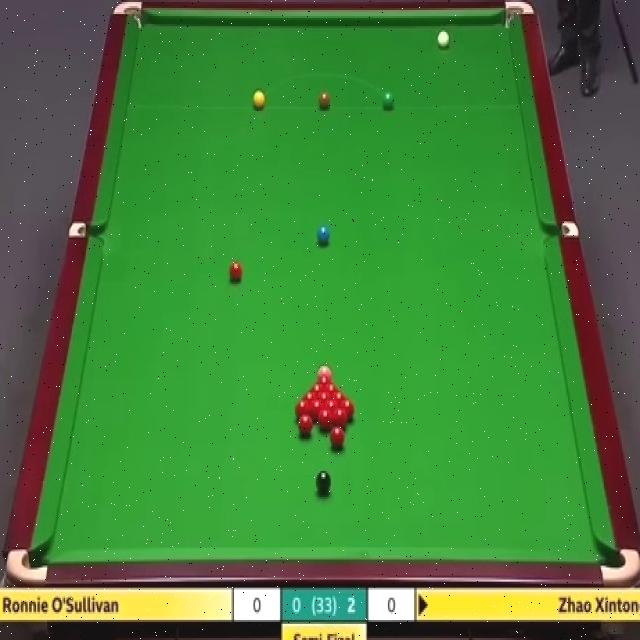black-ball: (316, 470, 332, 497)
blue-ball: (316, 224, 330, 247)
brown-ball: (318, 90, 331, 110)
green-ball: (381, 90, 394, 110)
pink-ball: (317, 364, 333, 378)
red-ball: (228, 260, 245, 288), (330, 428, 347, 451), (331, 409, 348, 430), (298, 414, 312, 435), (318, 409, 332, 430), (295, 398, 311, 416), (325, 401, 339, 420), (310, 400, 324, 418), (340, 401, 356, 416), (302, 391, 317, 401), (316, 392, 332, 401), (325, 383, 340, 392), (332, 393, 348, 401), (310, 384, 324, 392), (317, 376, 332, 383)
white-ball: (437, 27, 451, 50)
yellow-ball: (253, 91, 265, 110)
